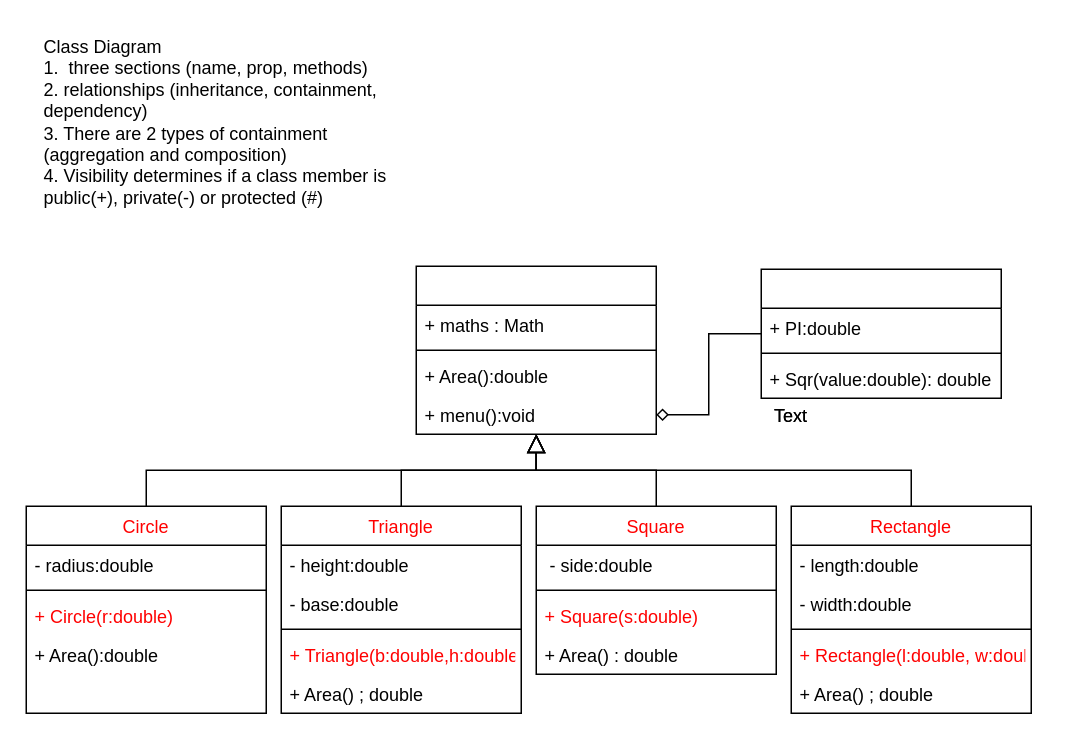
Some shapes in this 1079 by 743 pixel diagram are drawn without their labels. Here are the shapes that lost their labels. From the top down, the box of each, then its label:
(415, 265, 656, 434): Shape
(760, 268, 1001, 398): Math
